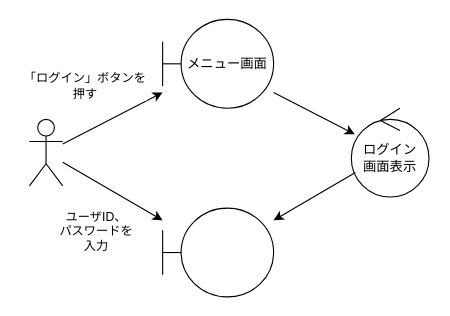
The diagram is 450 pixels wide and 316 high, and some of its shapes have lost their labels. Here are the shapes that lost their labels. From the top down, the centre of each, then its label:
the point at 45,152: ユーザー
the point at 218,252: ログイン画面
